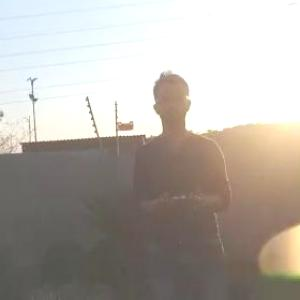follow: (124, 62, 236, 299)
